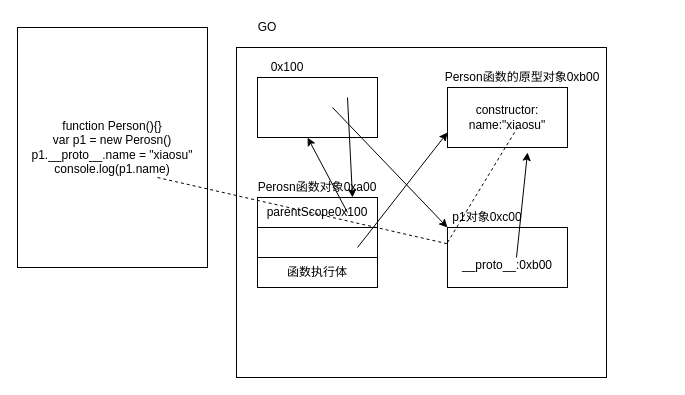
This 685x395 diagram has some shape labels left out. Each missing label, with the centre of its shape:
Person:0xa00 p1:0xc00: the point at 317,107
prototype(0xb00): the point at 317,242
